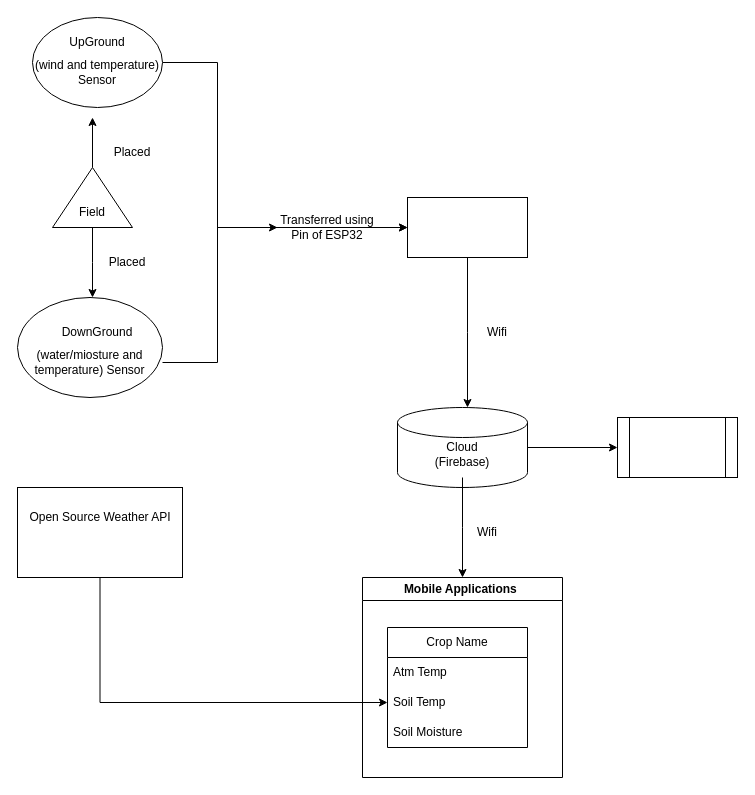
This 755x795 diagram has some shape labels left out. Here are the shapes that lost their labels. From the top down, the centre of each, then its label:
At (x=467, y=227): "ESP32".
At (x=677, y=447): "Alert".
